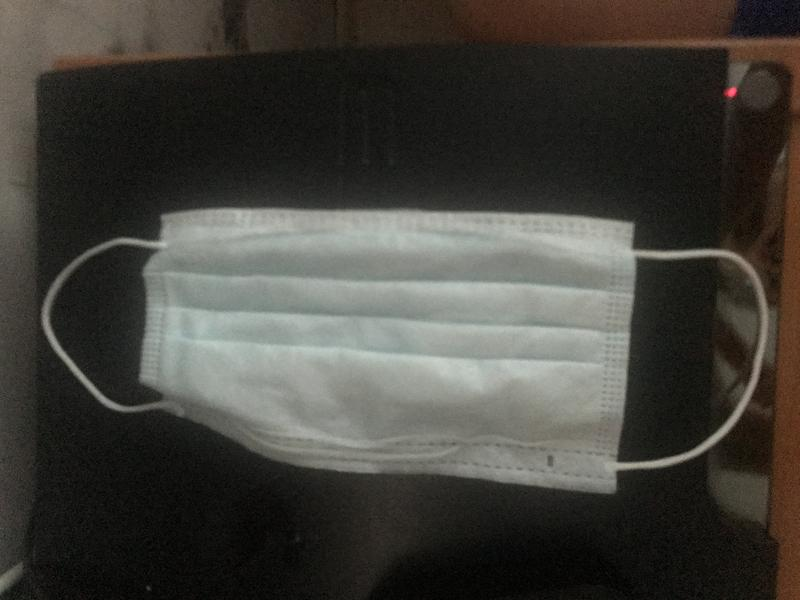medical_mask: (38, 209, 767, 492)
